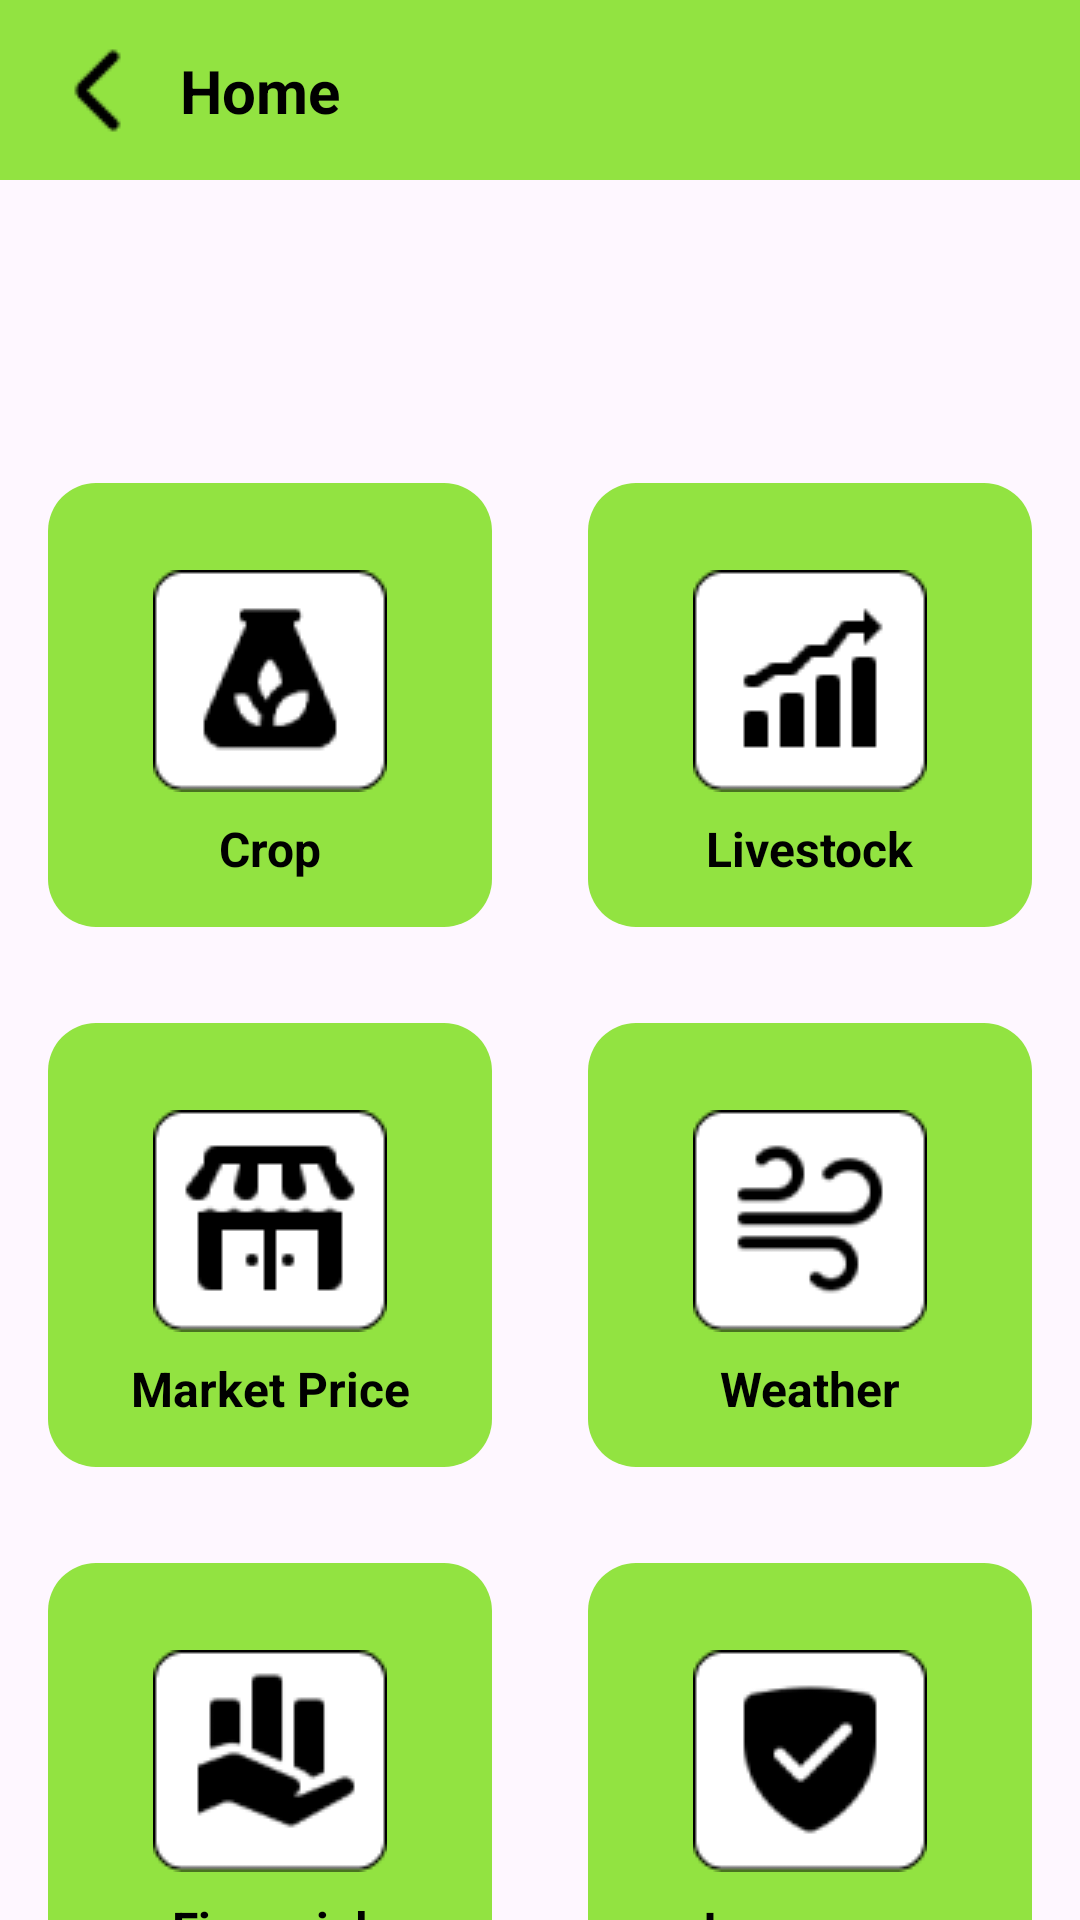

Where icons sit on this 1080 × 1920 app screen, as Rect(x1, y1, x2, y2):
back arrow: Rect(74, 49, 121, 132)
